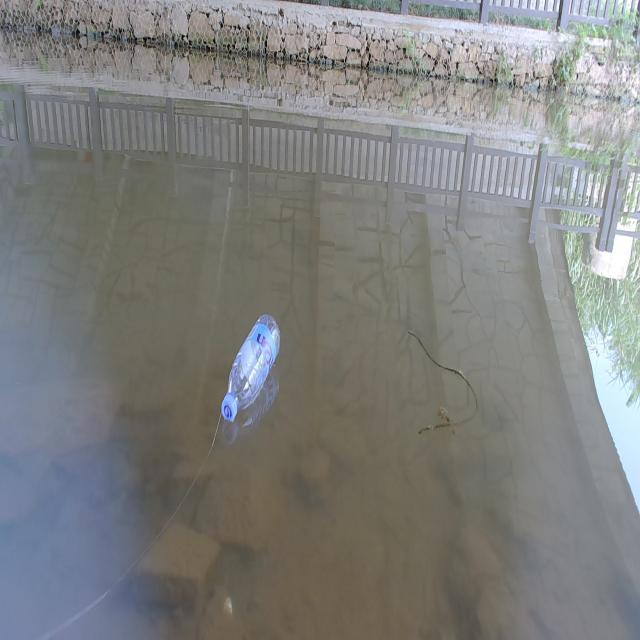bottle: (207, 286, 299, 446)
